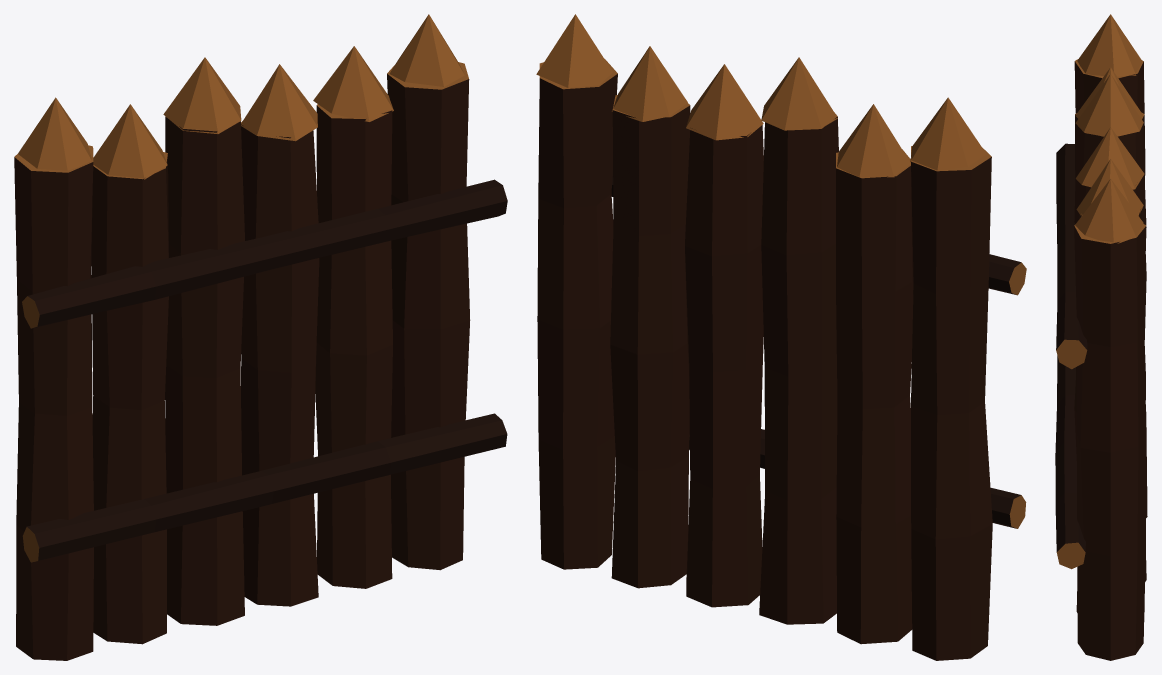
Rendered from woodwall.obj.
The picture shows the model from 3 angles, left to right: view 1: azimuth 30°, elevation 25°; view 2: azimuth 150°, elevation 25°; view 3: azimuth 270°, elevation 25°; orthographic projection. The views are drawn at different scales.
Parts seen in each view (by area): view 1: Posts, Braces; view 2: Posts, Braces; view 3: Posts, Braces.
Boxes of the visible parts, x1,y1,x2,y2 form: Posts: [14, 14, 470, 660]; Braces: [22, 179, 507, 562]; Posts: [536, 14, 992, 660]; Braces: [611, 170, 1026, 528]; Posts: [1074, 14, 1147, 660]; Braces: [1055, 143, 1087, 569].
Size of the model in its own units: 8.4 by 9.47 by 1.65.
